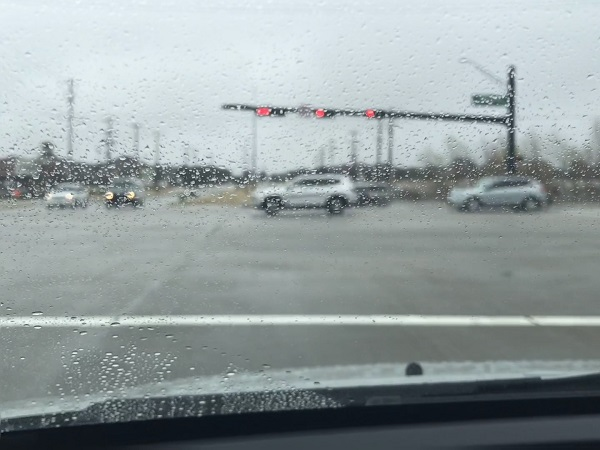car: (253, 173, 358, 216), (446, 175, 546, 212), (43, 180, 88, 206), (104, 178, 141, 206)
traffic light: (364, 109, 377, 120), (254, 107, 268, 117), (314, 109, 328, 117)
